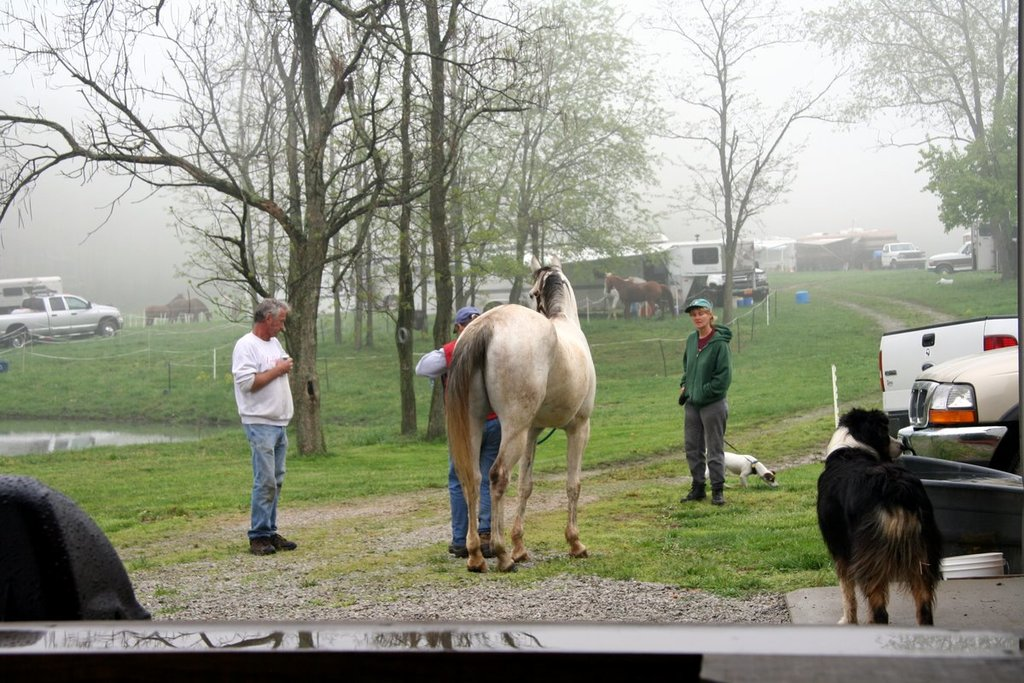horse: (443, 251, 597, 573)
